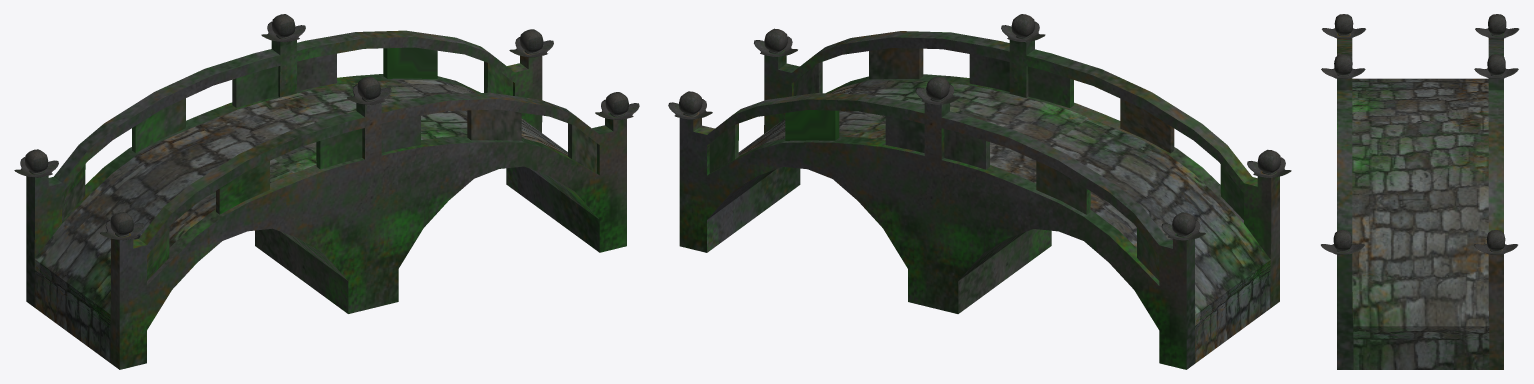
The model's file is Bridge.fbx.
The picture shows the model from 3 angles, left to right: view 1: azimuth 30°, elevation 25°; view 2: azimuth 150°, elevation 25°; view 3: azimuth 270°, elevation 25°; orthographic projection. The views are drawn at different scales.
Parts seen in each view (by area): view 1: StoneBridge; view 2: StoneBridge; view 3: StoneBridge.
Part boxes in pixels (box(x1,y1,x2,y2)): StoneBridge: box(14, 14, 639, 369); StoneBridge: box(668, 14, 1291, 369); StoneBridge: box(1321, 14, 1519, 369).
Size of the model in its own units: 665 by 269 by 238.
Materials: 1 (1 with a texture image).
